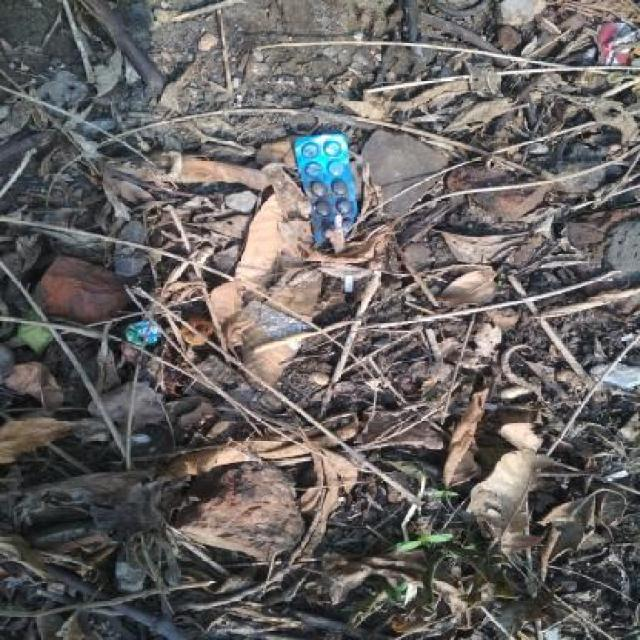garbage: (18, 43, 586, 566)
